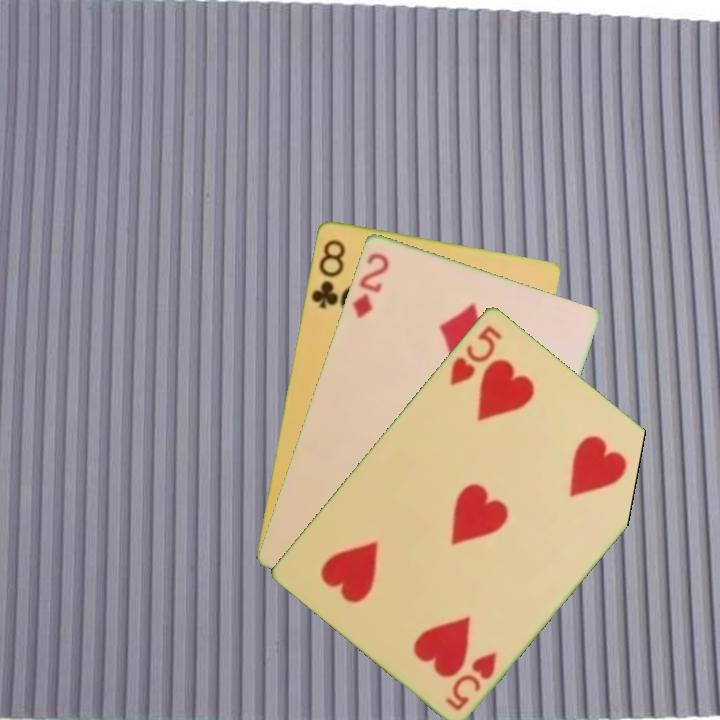2d: (348, 248, 392, 320)
5h: (445, 321, 505, 388), (441, 647, 500, 713)
8c: (307, 235, 348, 312)
